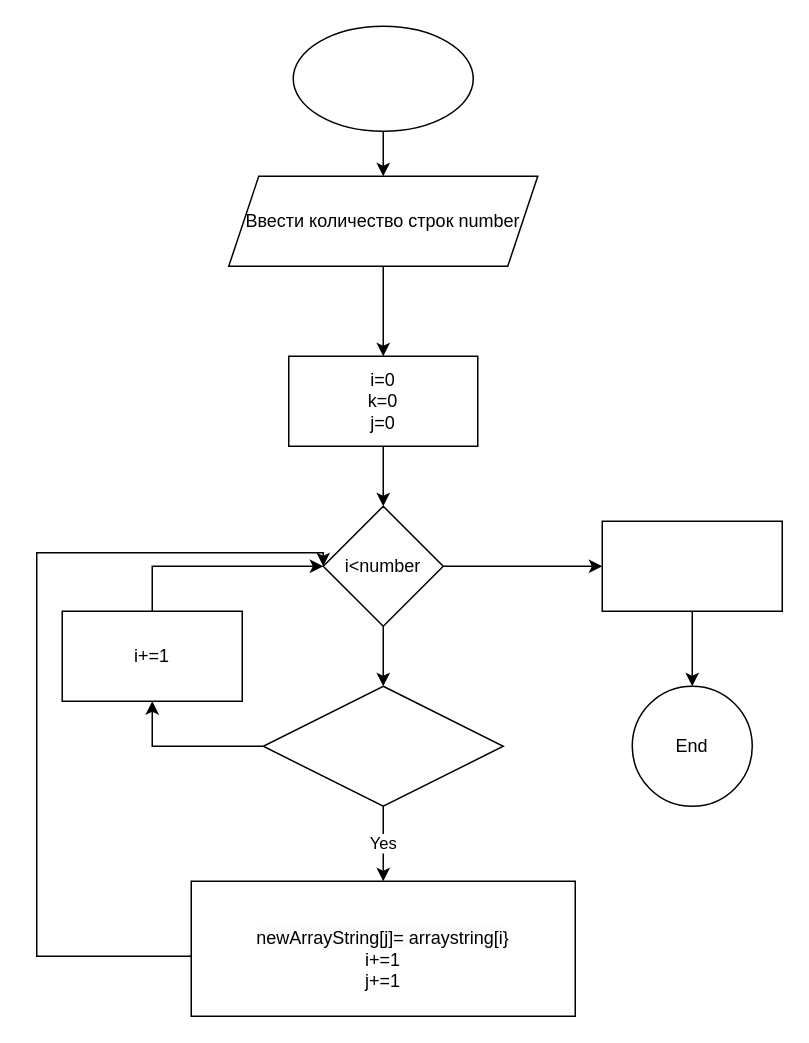
This 809x1043 diagram has some shape labels left out. Each missing label, with the centre of its shape:
arraystring.length[i}<4: (382,745)
print(newArrayString): (691,565)
Начало: (382,78)
